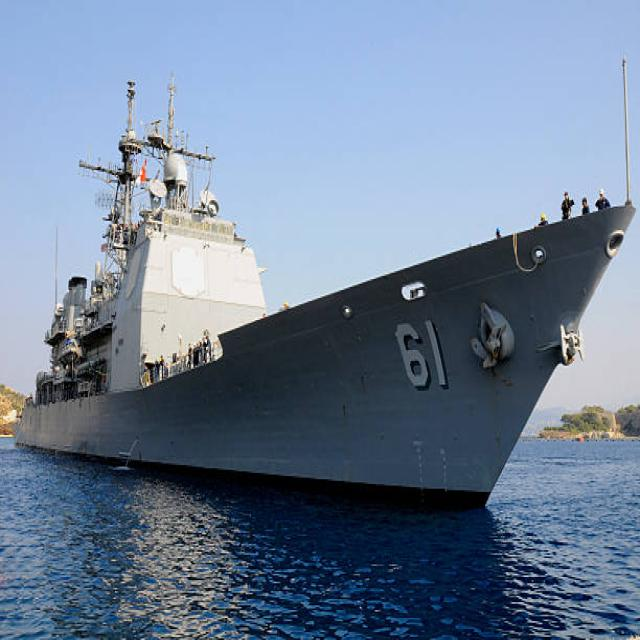Military: (14, 84, 637, 509)
